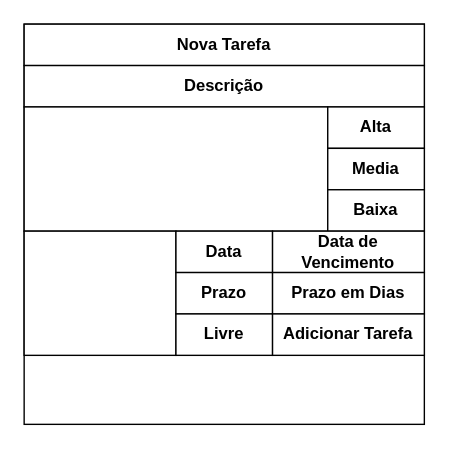
The diagram is 449 pixels wide and 449 high, and some of its shapes have lost their labels. Here are the shapes that lost their labels. From the top down, the centre of each, then its label:
At [175,168]: "Prioridade".
At [99,292]: "Tipo".
